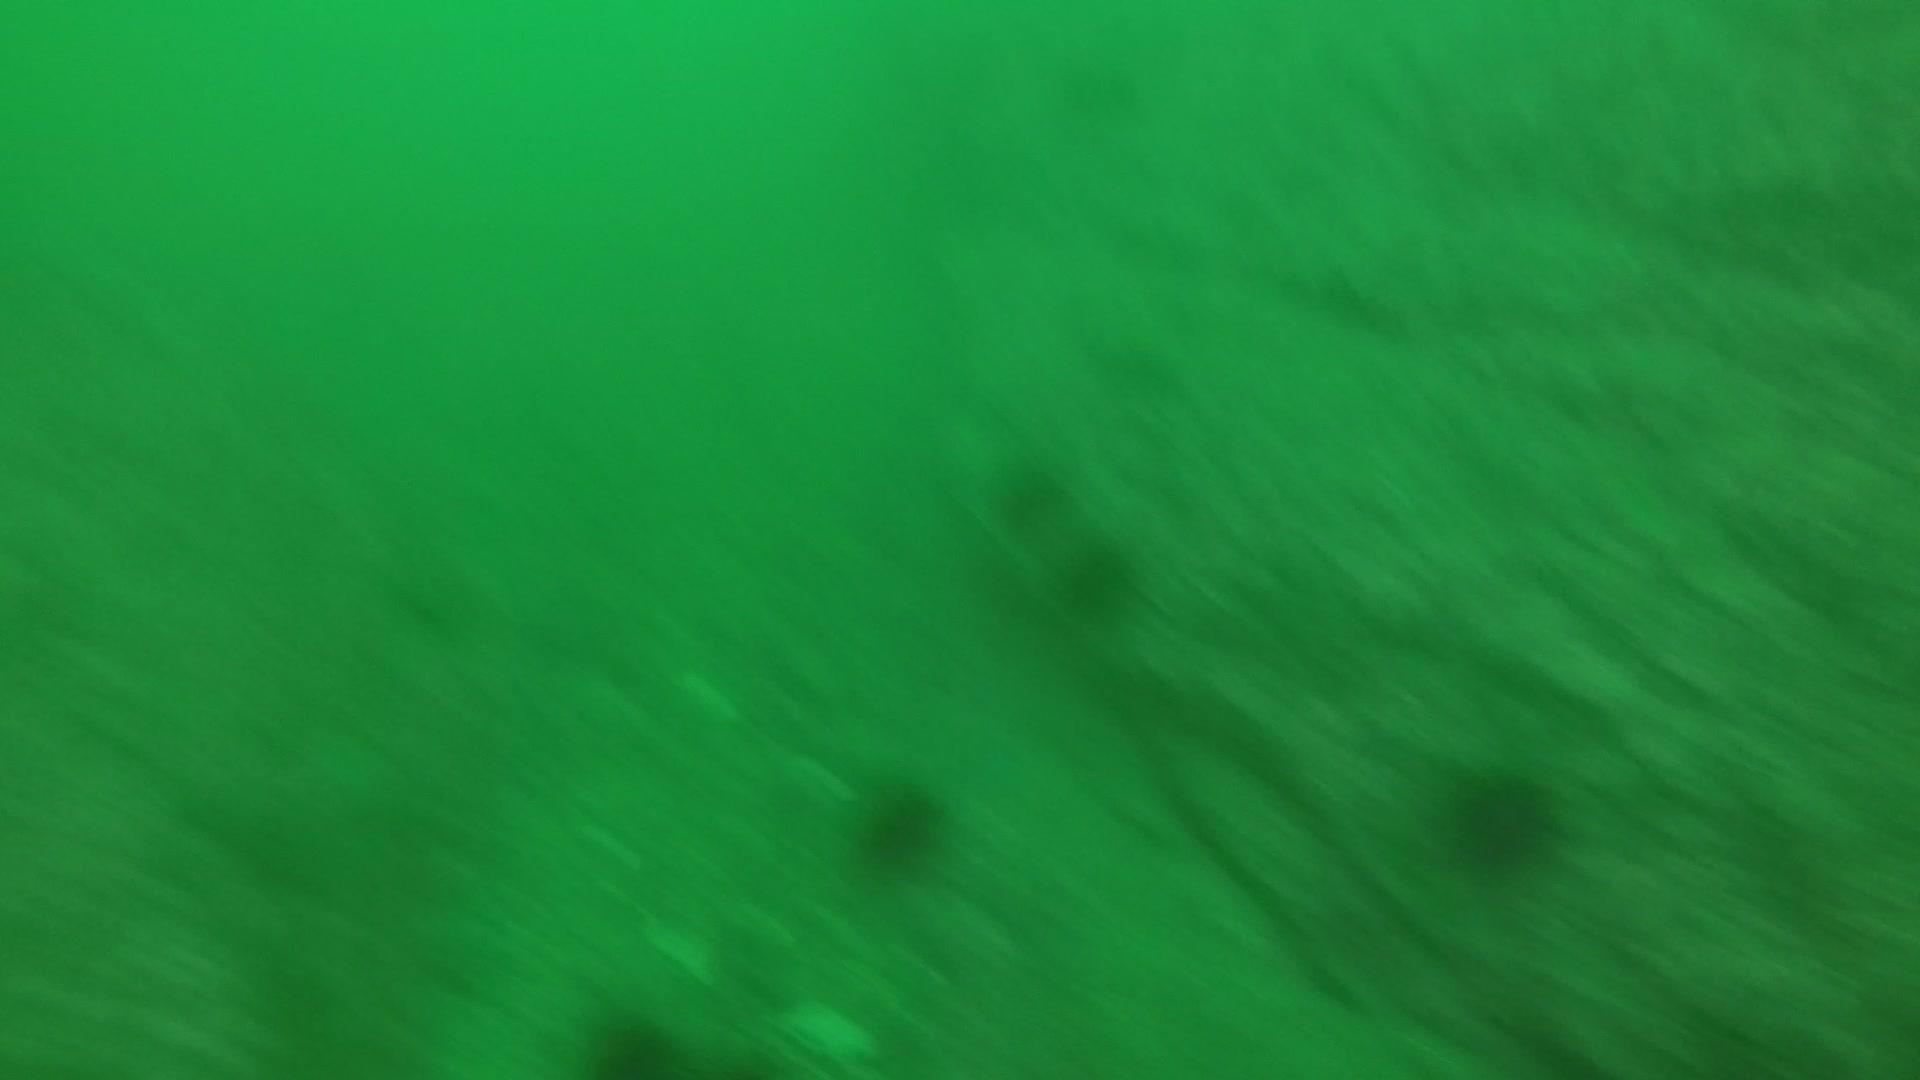echinus: (1437, 760, 1565, 877), (847, 769, 955, 876), (1044, 44, 1150, 125), (1052, 531, 1142, 620), (576, 1005, 687, 1076), (986, 451, 1075, 530)
